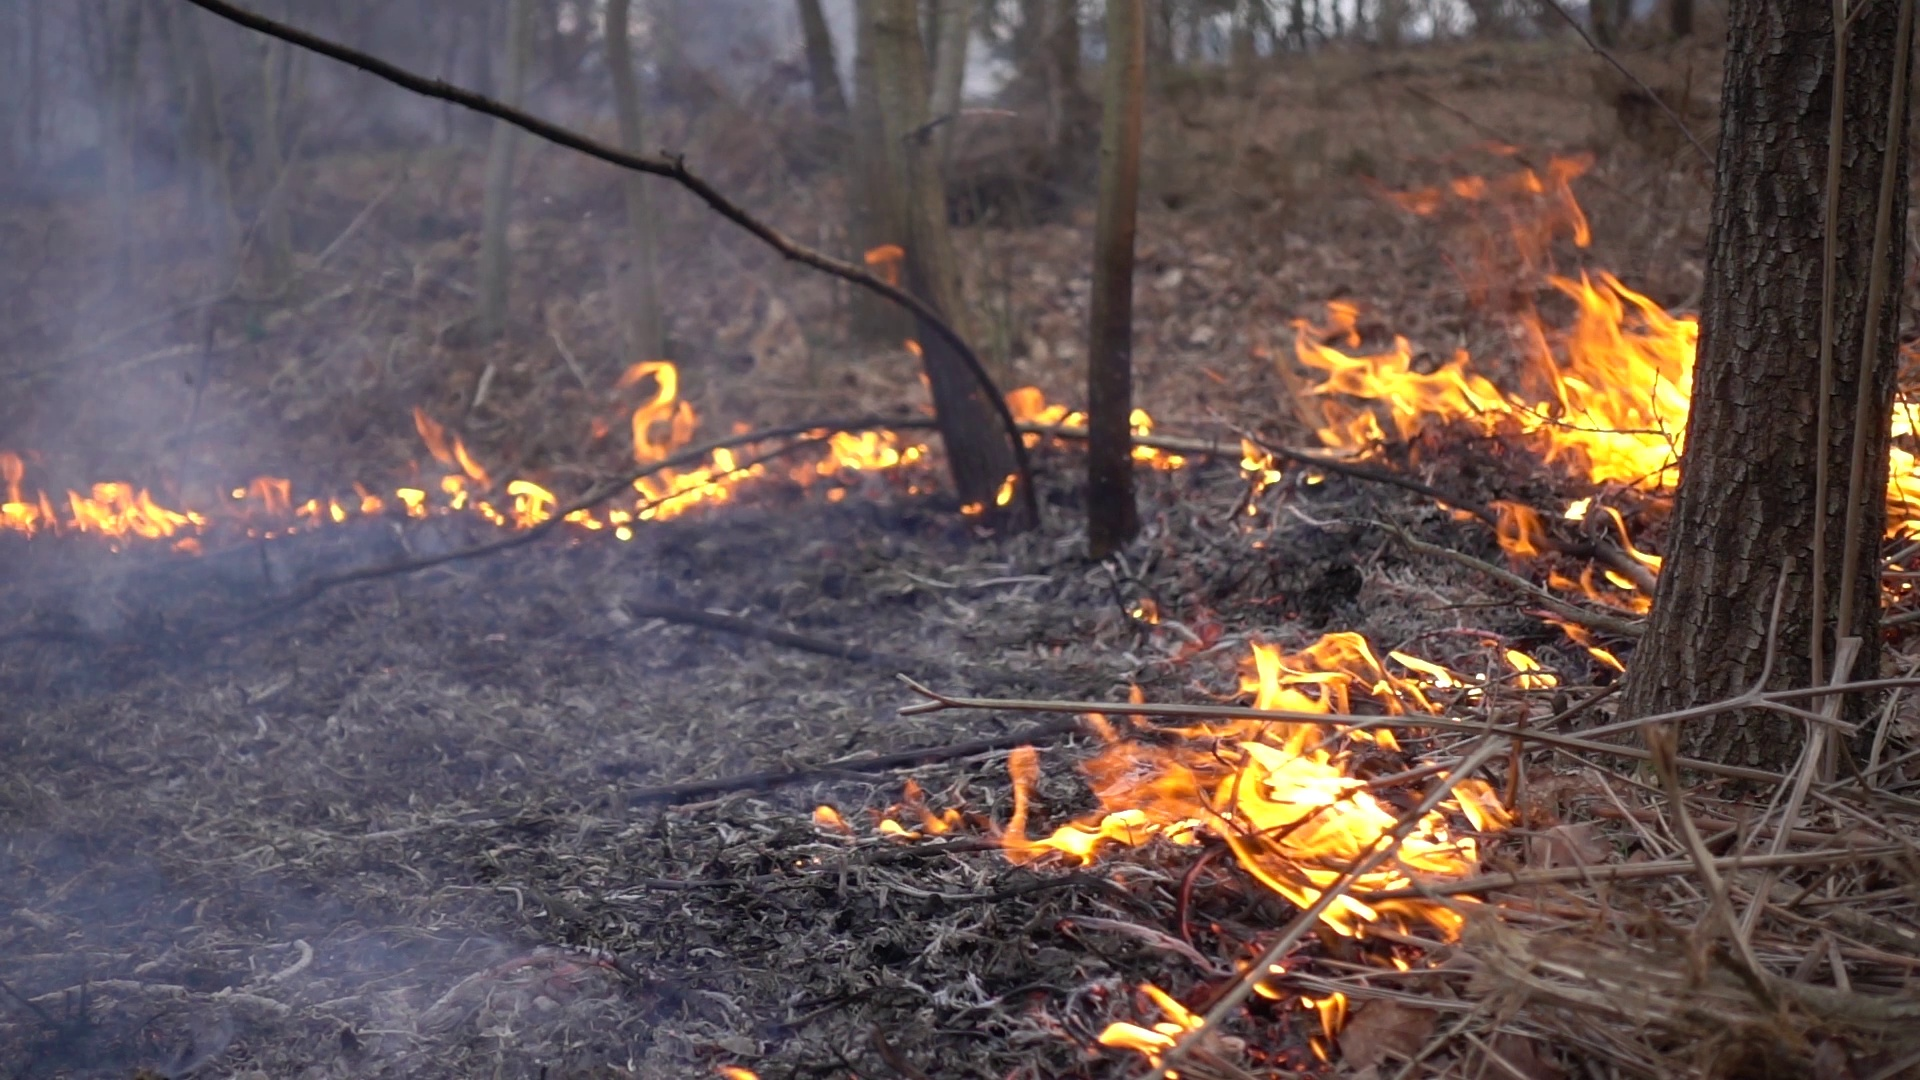fire: (1026, 640, 1462, 924), (1549, 268, 1691, 479), (1298, 338, 1487, 425), (632, 364, 698, 505), (7, 483, 170, 534), (820, 430, 902, 471), (506, 480, 558, 526), (1011, 386, 1059, 425)
